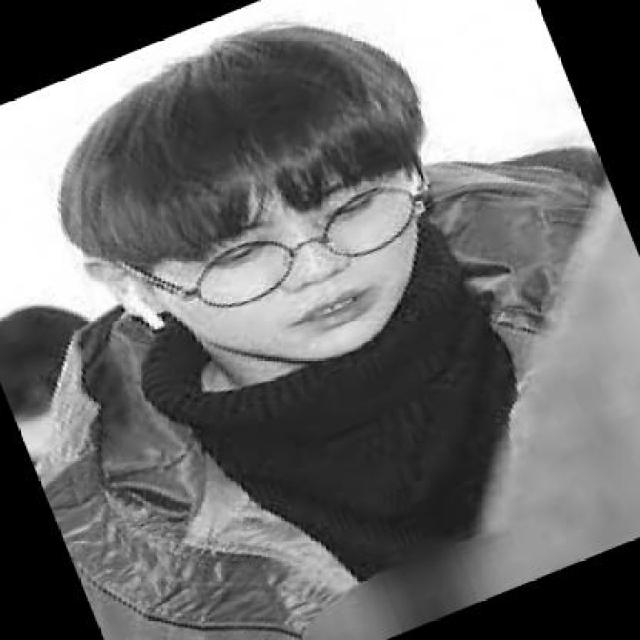earphone: (103, 262, 180, 337), (404, 138, 439, 222)
